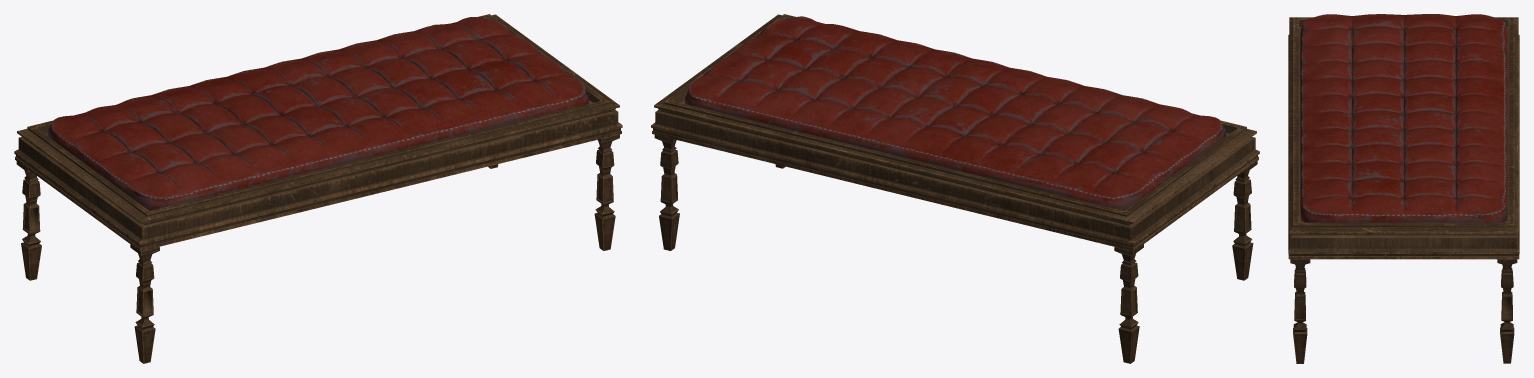
Rendered from seat.glb.
3 renders of one model, left to right at view 1: azimuth 30°, elevation 25°; view 2: azimuth 150°, elevation 25°; view 3: azimuth 270°, elevation 25°, orthographic. The views are drawn at different scales.
Parts seen in each view (by area): view 1: Seat_Material, Seat_Base, Leg; view 2: Seat_Material, Seat_Base, Leg; view 3: Seat_Material, Seat_Base, Leg.
Part boxes in pixels (bbox=[...]): Seat_Material: bbox=[48, 17, 588, 210]; Seat_Base: bbox=[14, 14, 622, 251]; Leg: bbox=[16, 134, 619, 363]; Seat_Material: bbox=[685, 16, 1225, 210]; Seat_Base: bbox=[651, 14, 1259, 251]; Leg: bbox=[654, 134, 1257, 363]; Seat_Material: bbox=[1300, 14, 1507, 222]; Seat_Base: bbox=[1288, 17, 1519, 259]; Leg: bbox=[1290, 259, 1517, 363].
Bounding box in the file's own units: 1.26 × 0.41 × 0.5682.
3 materials, 3 textured.
